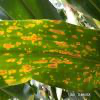Corn Gray leaf spot: (0, 17, 99, 92)
